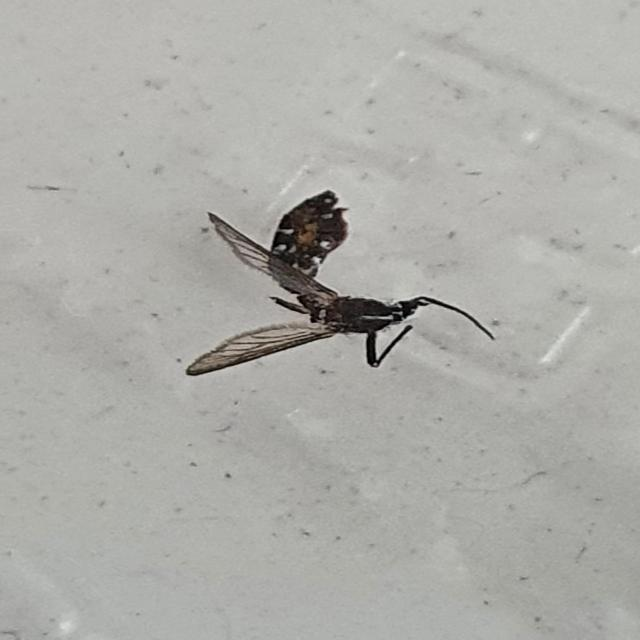albopictus: (183, 179, 497, 377)
